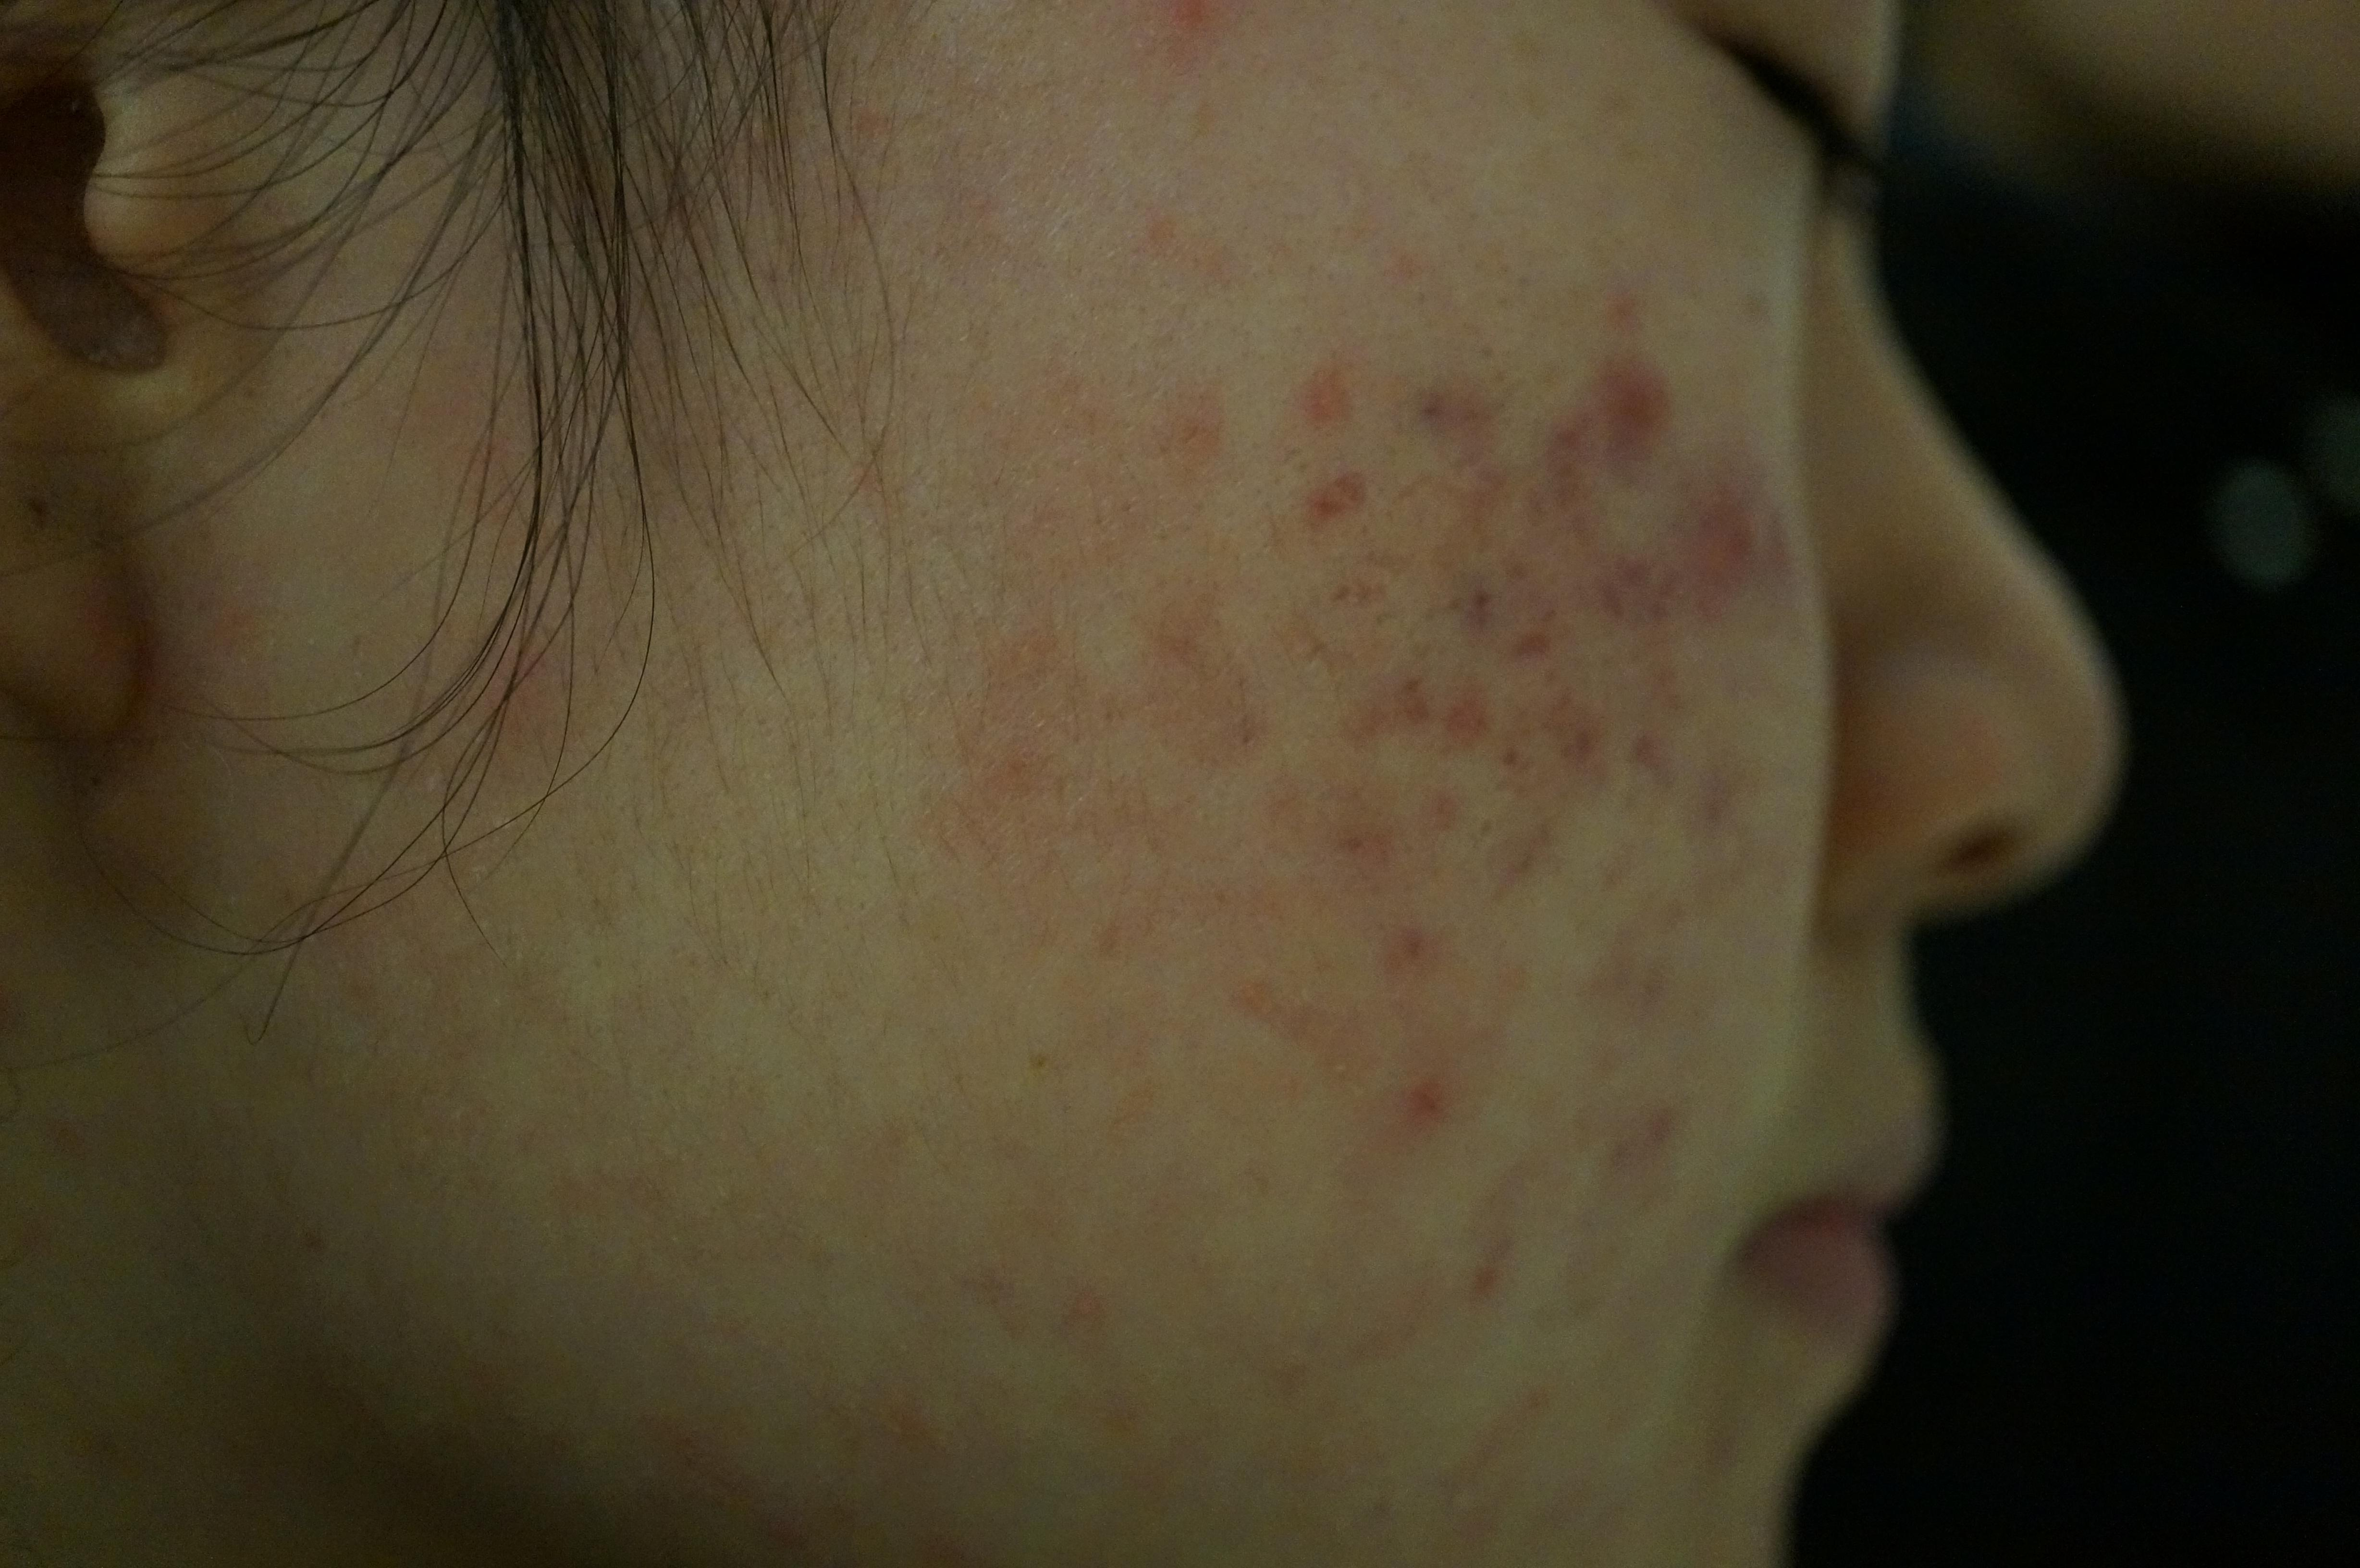fore: (1679, 472, 1825, 633), (1484, 777, 1595, 924), (1552, 681, 1664, 808), (1564, 357, 1695, 450), (1595, 530, 1688, 649), (1328, 661, 1436, 761), (1445, 513, 1520, 653), (1588, 1076, 1692, 1172), (1405, 378, 1512, 465), (1289, 444, 1389, 537), (1440, 658, 1524, 761), (1377, 892, 1456, 1001), (1265, 338, 1389, 401), (1389, 1032, 1464, 1129), (1517, 441, 1583, 521)
